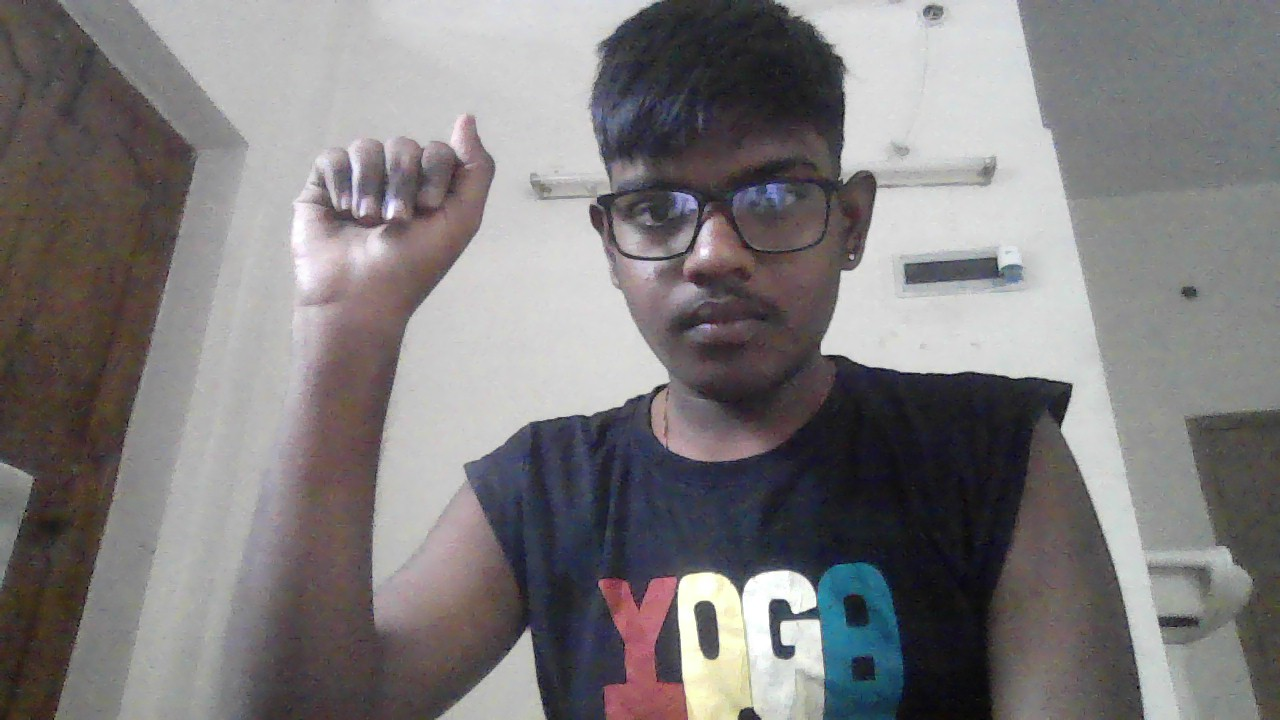A: (290, 112, 495, 305)
